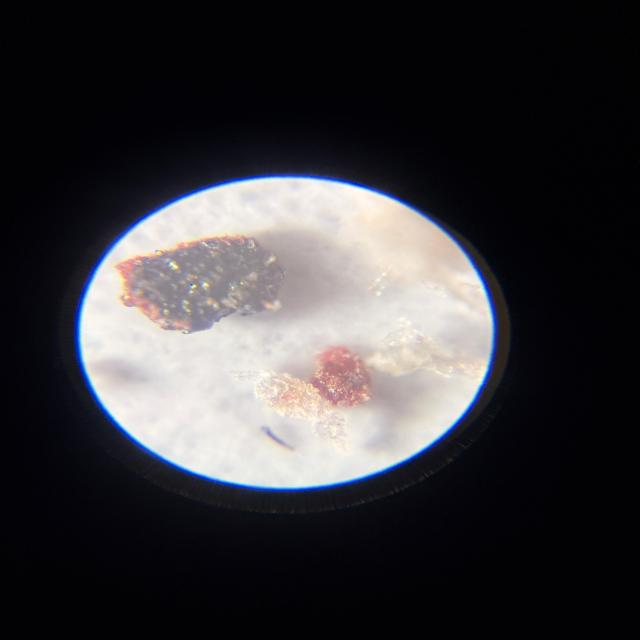microplastic_type_0: (115, 235, 284, 334), (311, 346, 372, 407)
microplastic_type_1: (235, 372, 348, 451), (367, 328, 488, 382)
